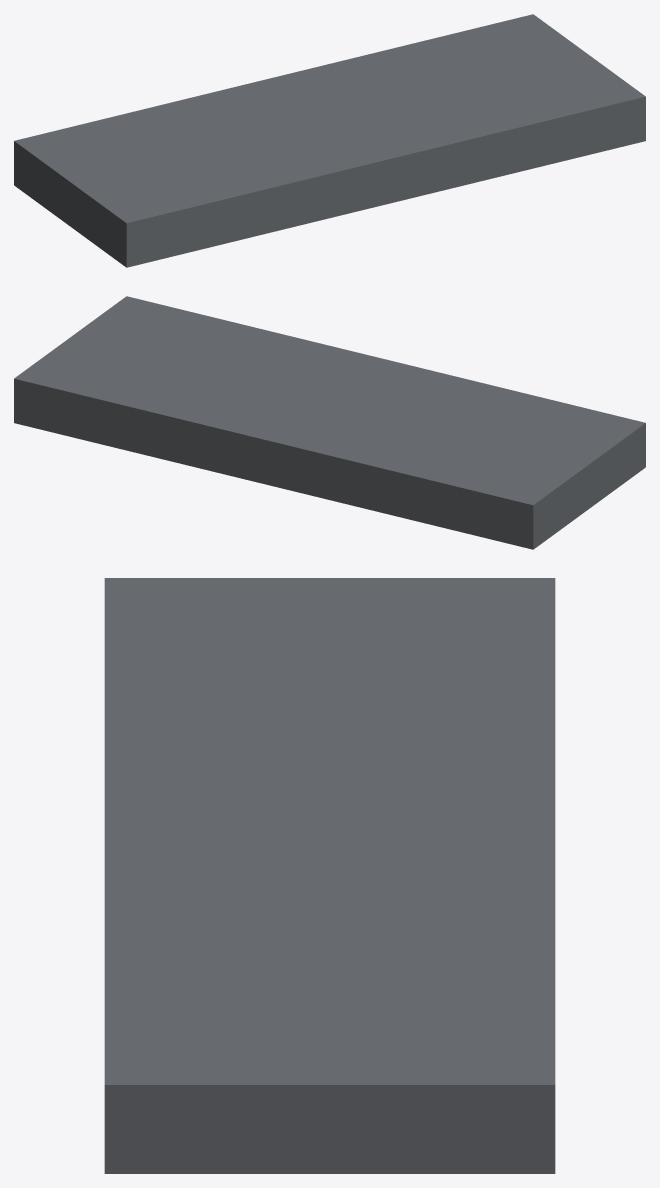
File: Terrace1_C1.fbx
3 views of the same model, one above another, from view 1: azimuth 30°, elevation 25°; view 2: azimuth 150°, elevation 25°; view 3: azimuth 270°, elevation 25° (orthographic). The views are drawn at different scales.
Parts seen in each view (by area): view 1: Terrace1_C1; view 2: Terrace1_C1; view 3: Terrace1_C1.
Part boxes in pixels (left/top/right/bottom): Terrace1_C1: left=14, top=14, right=645, bottom=267; Terrace1_C1: left=14, top=296, right=645, bottom=549; Terrace1_C1: left=104, top=578, right=555, bottom=1173.
Bounding box in the file's own units: 1.22 × 0.1 × 0.4591.
